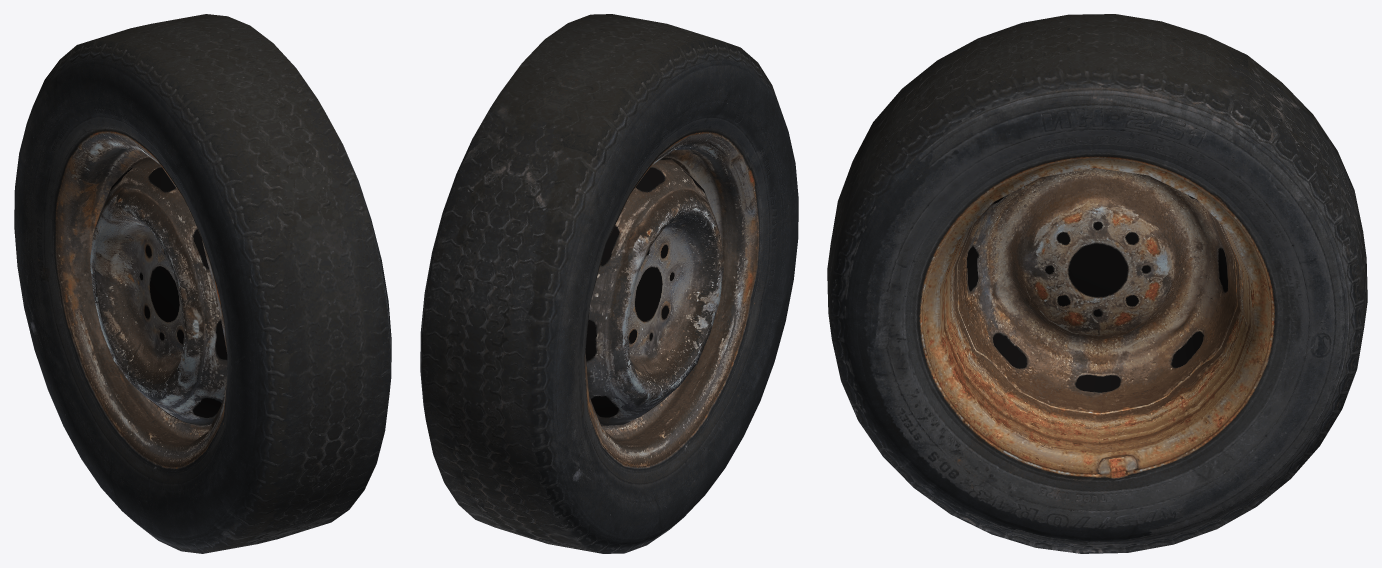
The picture shows the model from 3 angles, left to right: view 1: azimuth 30°, elevation 25°; view 2: azimuth 150°, elevation 25°; view 3: azimuth 270°, elevation 25°; orthographic projection. The views are drawn at different scales.
Visible parts, largest first — view 1: Object001__0; view 2: Object001__0; view 3: Object001__0.
Boxes of the visible parts, x1=… form: Object001__0: x1=14, y1=14, x2=391, y2=553; Object001__0: x1=420, y1=14, x2=798, y2=553; Object001__0: x1=827, y1=14, x2=1367, y2=553.
Size of the model in its own units: 1.8 by 5.64 by 5.62.
1 material, 1 textured.
